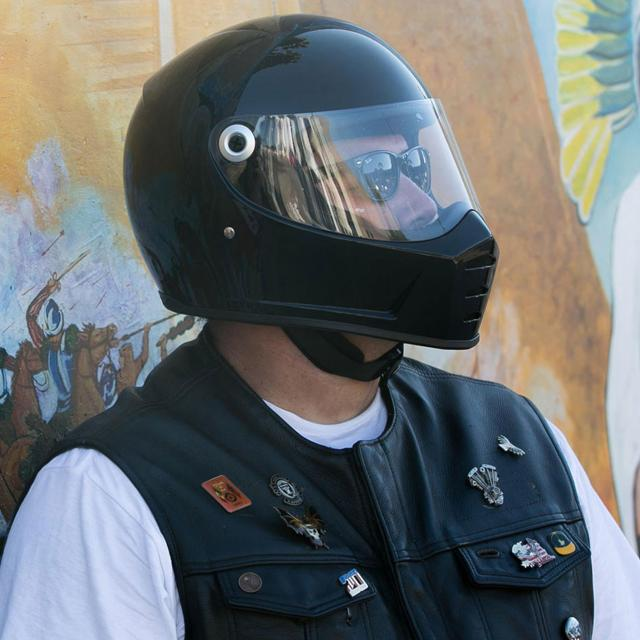helmet: (115, 4, 503, 386)
